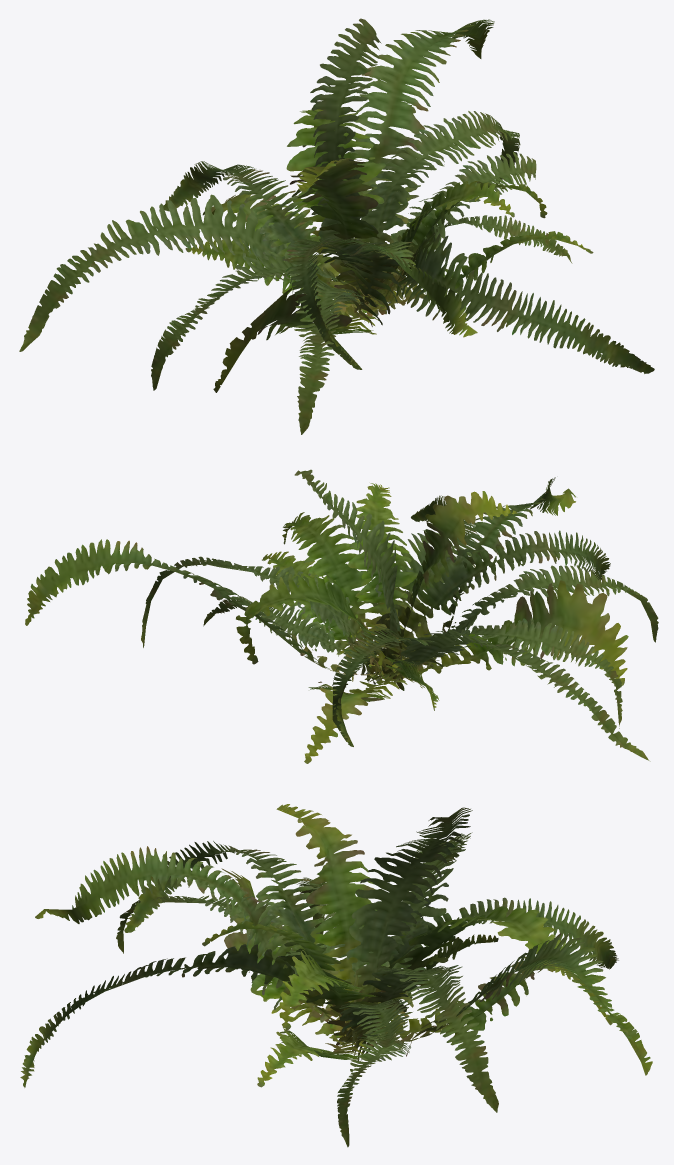
File: ph-fern-02.lod1.glb
3 renders of one model, top to bottom at view 1: azimuth 30°, elevation 25°; view 2: azimuth 150°, elevation 25°; view 3: azimuth 270°, elevation 25°, orthographic. The views are drawn at different scales.
Parts seen in each view (by area): view 1: fern_02_b; view 2: fern_02_b; view 3: fern_02_b.
Part boxes in pixels (x1=…): fern_02_b: x1=19, y1=18, x2=654, y2=434; fern_02_b: x1=25, y1=469, x2=658, y2=763; fern_02_b: x1=20, y1=804, x2=652, y2=1147.
Size of the model in its own units: 0.9897 by 0.4277 by 0.8937.
Materials: 1 (1 with a texture image).
